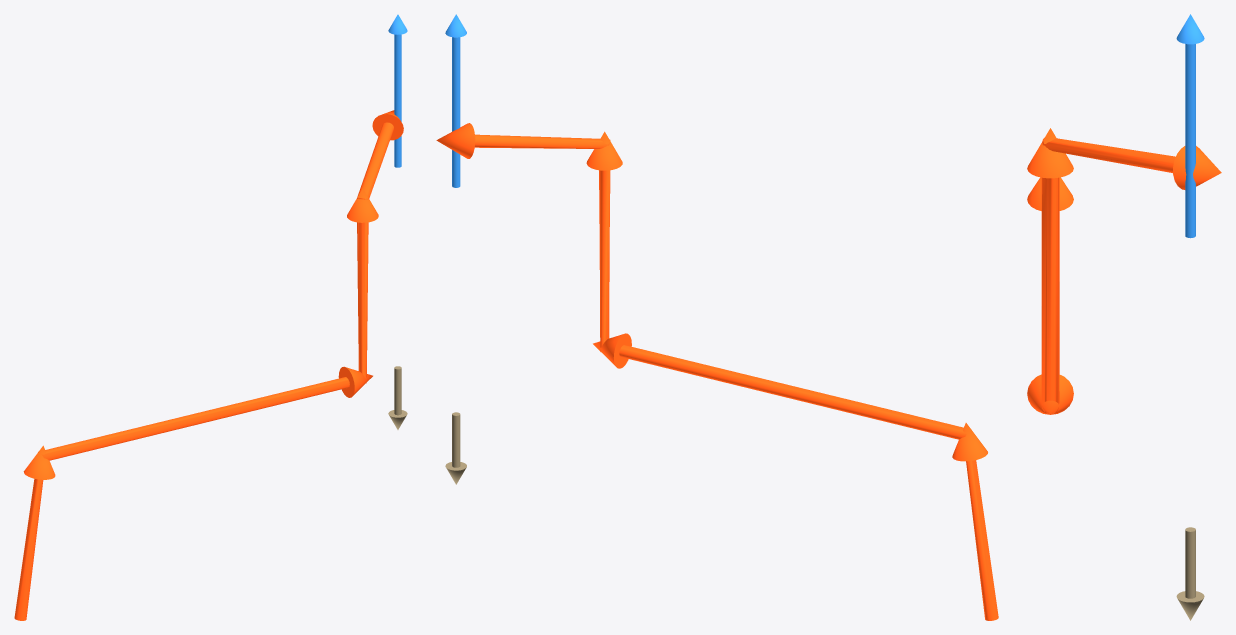
The model's file is classification_hydrocyclone_flow.glb.
3 renders of one model, left to right at view 1: azimuth 30°, elevation 25°; view 2: azimuth 150°, elevation 25°; view 3: azimuth 270°, elevation 25°, orthographic. The views are drawn at different scales.
Parts seen in each view (by area): view 1: feed, overflow, underflow; view 2: feed, overflow; view 3: feed, overflow, underflow.
Part boxes in pixels (bbox=[...]): feed: bbox=[14, 110, 403, 620]; overflow: bbox=[388, 14, 407, 167]; underflow: bbox=[388, 366, 407, 429]; feed: bbox=[436, 123, 998, 620]; overflow: bbox=[445, 14, 466, 187]; feed: bbox=[1027, 128, 1221, 414]; overflow: bbox=[1176, 14, 1204, 238]; underflow: bbox=[1176, 527, 1204, 620].
Bounding box in the file's own units: 2.05 × 2.08 × 0.5408.
